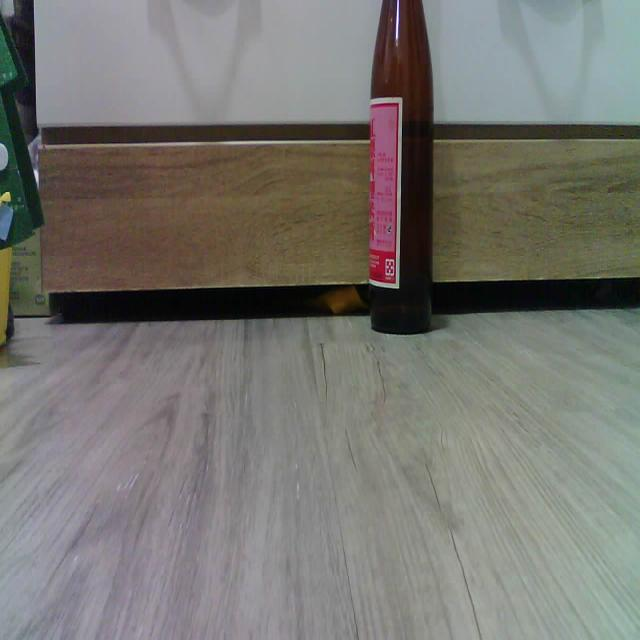bottle: (368, 0, 434, 333)
